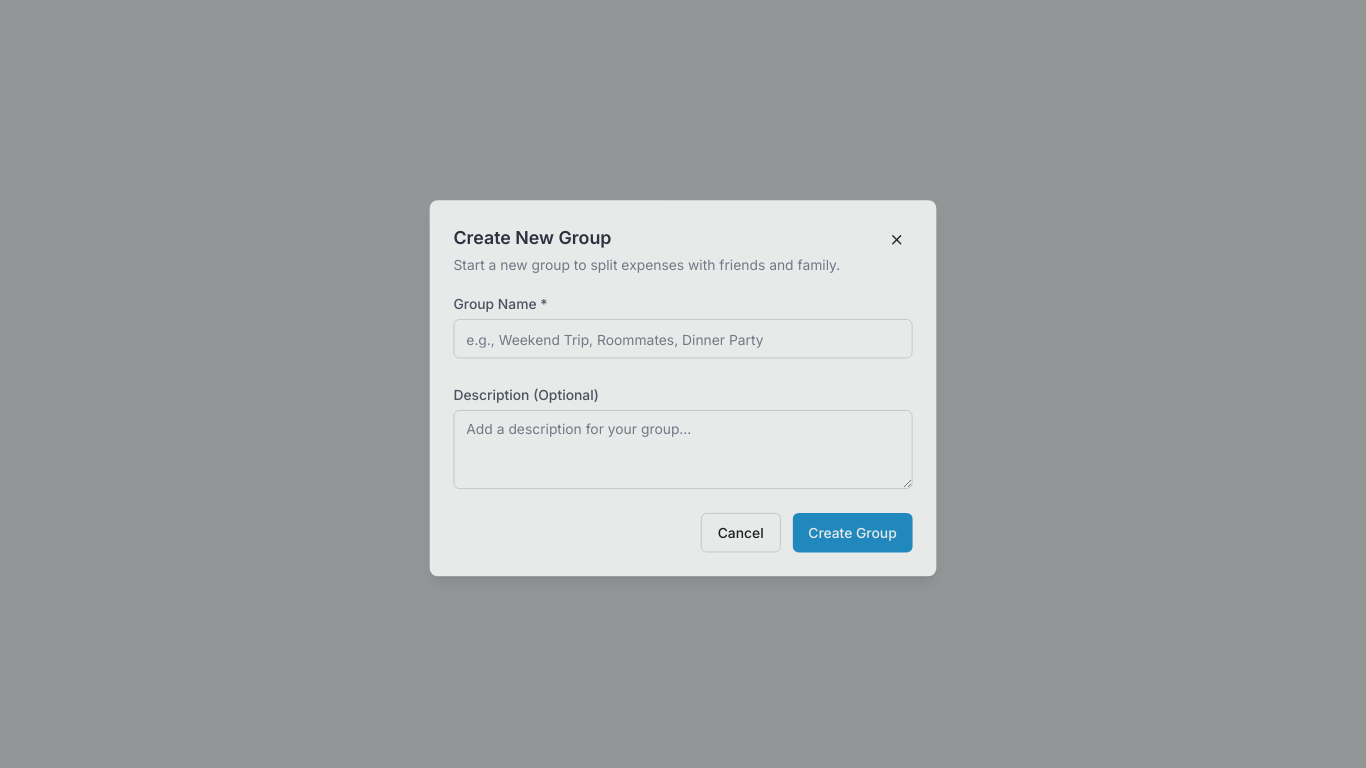
it: CreateGroupForm › should disable submit button when loading
This screenshot has width=1366, height=768.
In the field labelled "Group Name *": (683, 339) [453,319,912,358], type "Test Group"
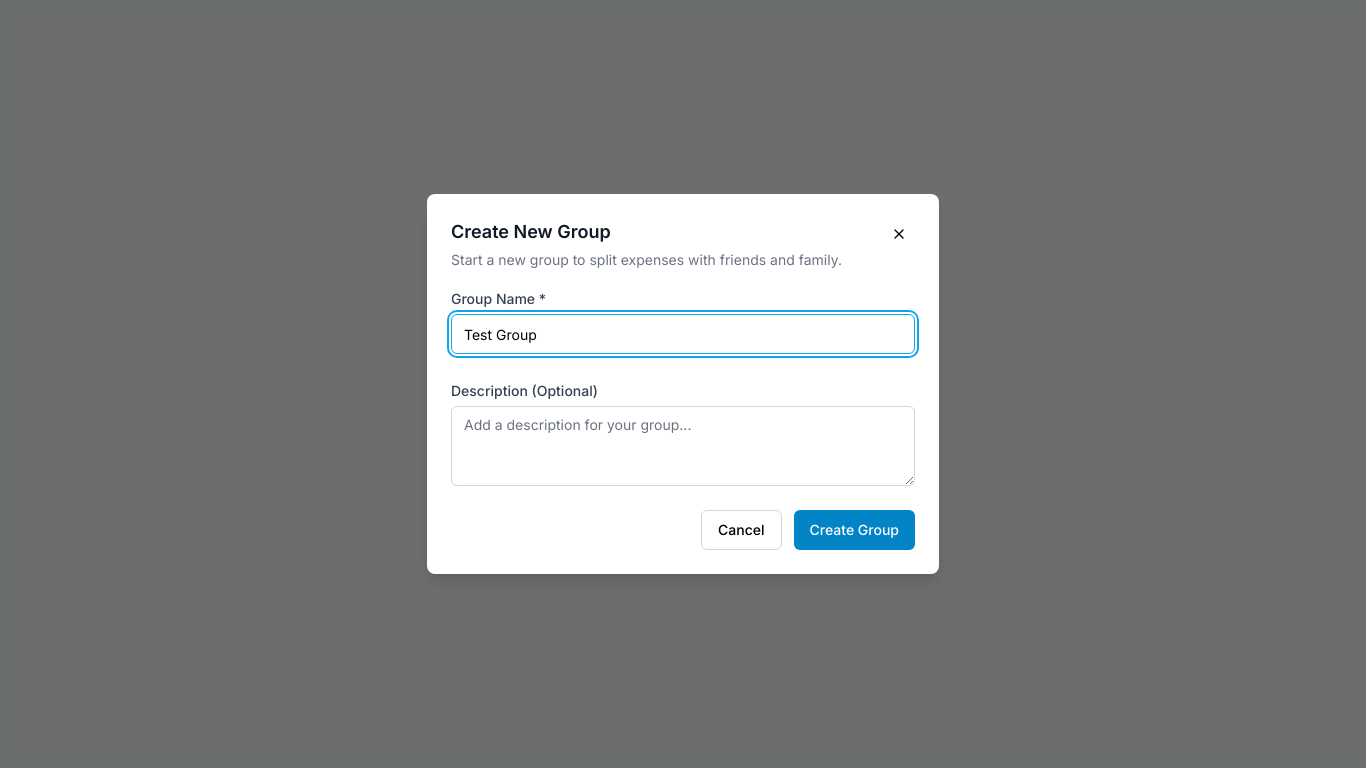
Click the button "Create Group": (854, 530) [794,510,915,550]
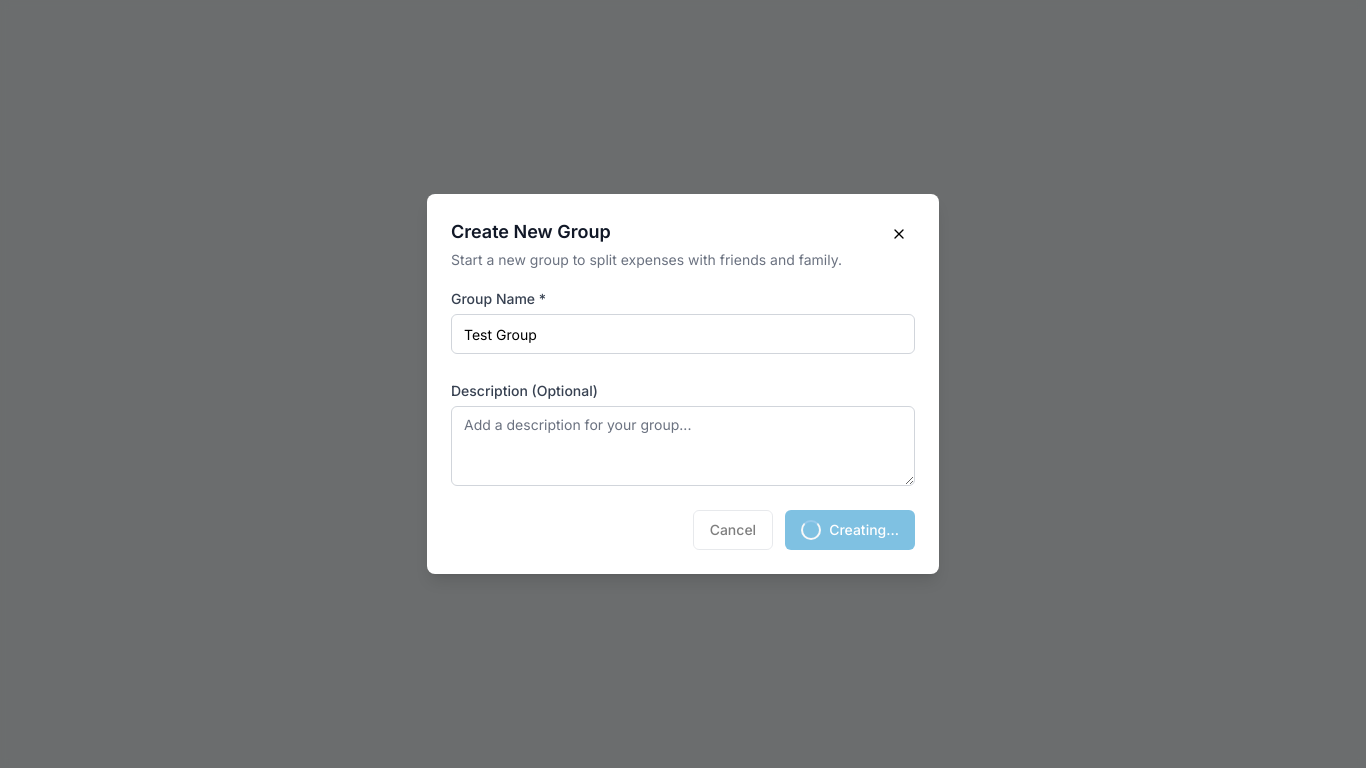
Check: the button named "create group" is disabled, box [785,510,915,550]
